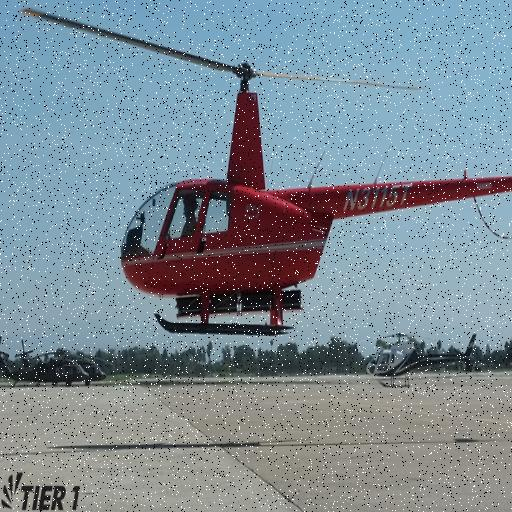helicopter: (18, 3, 512, 345)
